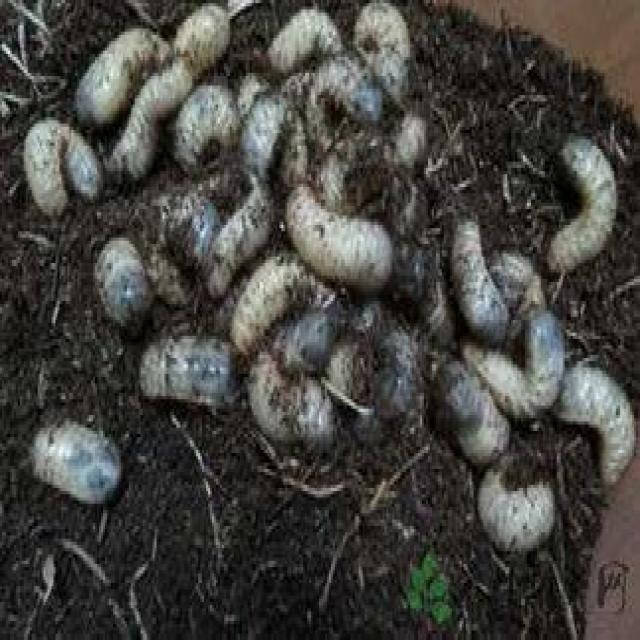Grub-Adult-: (537, 120, 638, 282), (284, 183, 412, 294), (468, 307, 586, 413), (17, 101, 108, 221), (145, 321, 246, 427), (26, 414, 112, 523), (240, 96, 313, 198), (168, 82, 232, 163)
